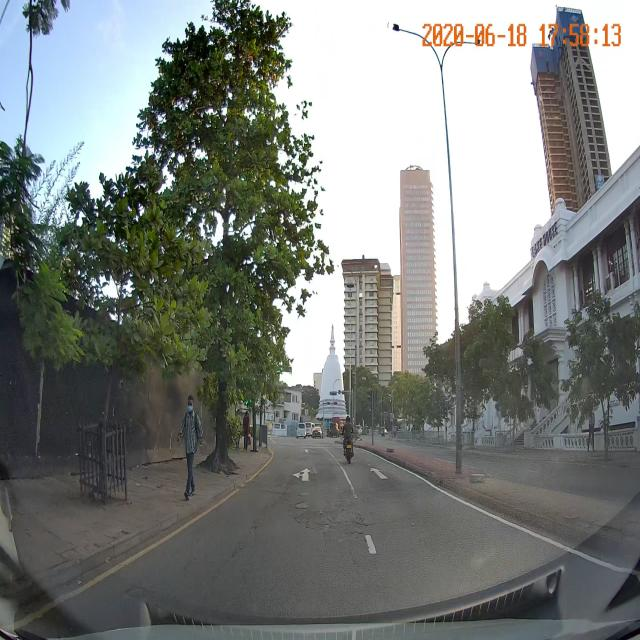forward_lft: (245, 465, 354, 483), (250, 470, 350, 478)
